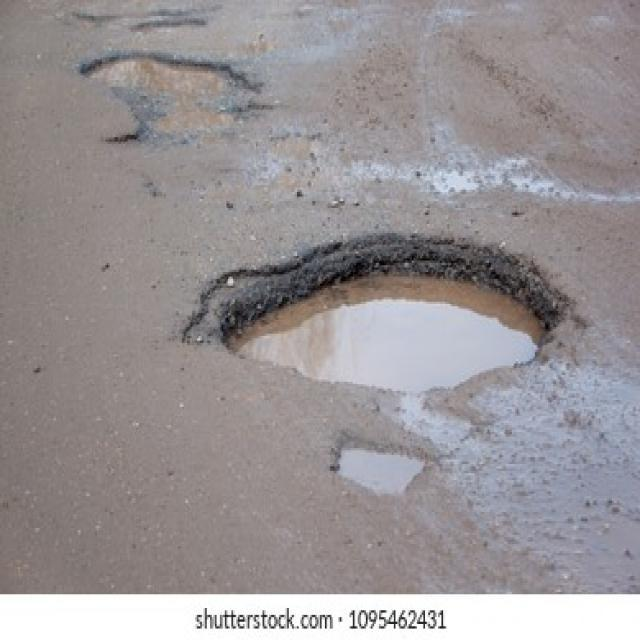Pothole: (178, 233, 570, 393), (80, 50, 274, 146), (333, 436, 428, 496), (131, 18, 207, 37)
